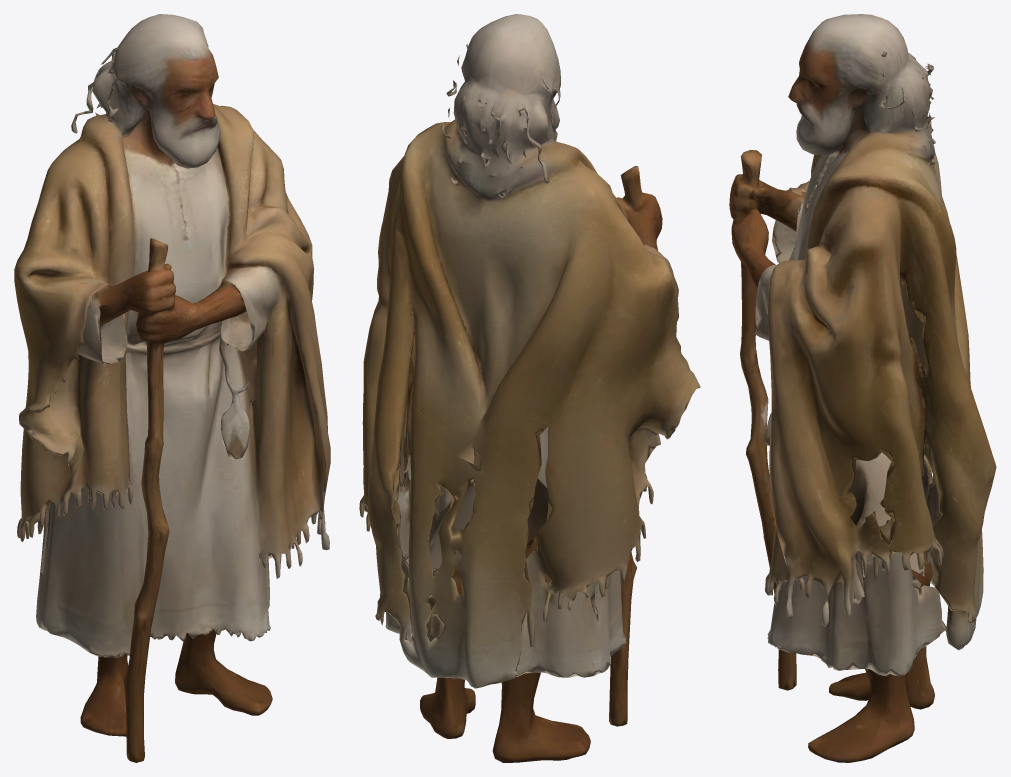
Rendered from john.glb.
The picture shows the model from 3 angles, left to right: view 1: azimuth 30°, elevation 25°; view 2: azimuth 150°, elevation 25°; view 3: azimuth 270°, elevation 25°; orthographic projection.
Visible parts, largest first — view 1: geometry_0; view 2: geometry_0; view 3: geometry_0.
Boxes of the visible parts, bbox=[...] form: geometry_0: bbox=[14, 14, 330, 762]; geometry_0: bbox=[359, 14, 700, 762]; geometry_0: bbox=[729, 14, 996, 762].
Bounding box in the file's own units: 0.453 × 1 × 0.3446.
1 material, 1 textured.
